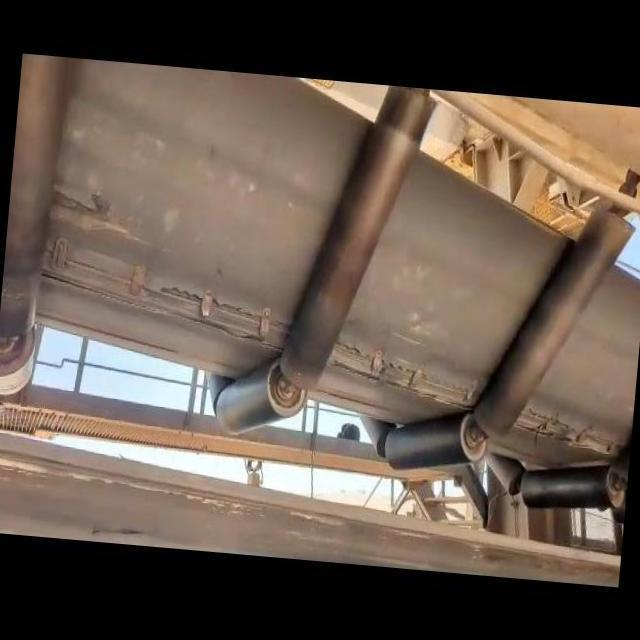Tear: (43, 238, 305, 356), (329, 326, 483, 413), (517, 394, 628, 459)
Wear: (53, 180, 158, 249)
